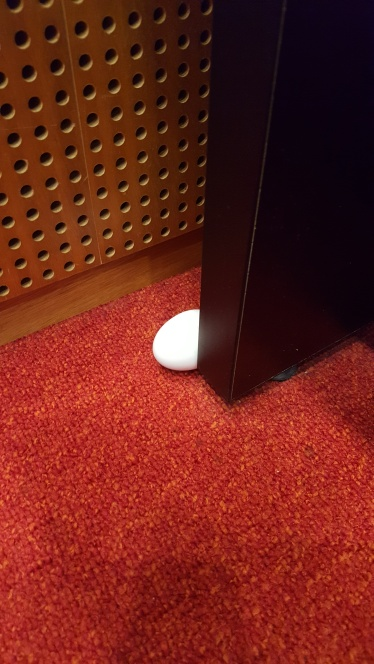egg: (153, 308, 210, 371)
